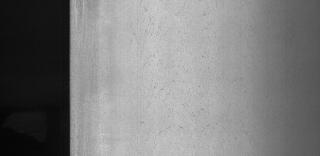silk spot: (134, 2, 256, 152)
